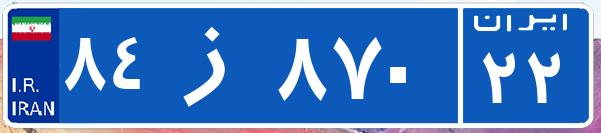0: (385, 28, 445, 110)
2: (475, 38, 525, 113), (525, 38, 570, 115)
4: (110, 28, 158, 105)
7: (330, 28, 385, 110)
8: (273, 28, 330, 110), (57, 26, 110, 107)
ز: (158, 15, 273, 115)
